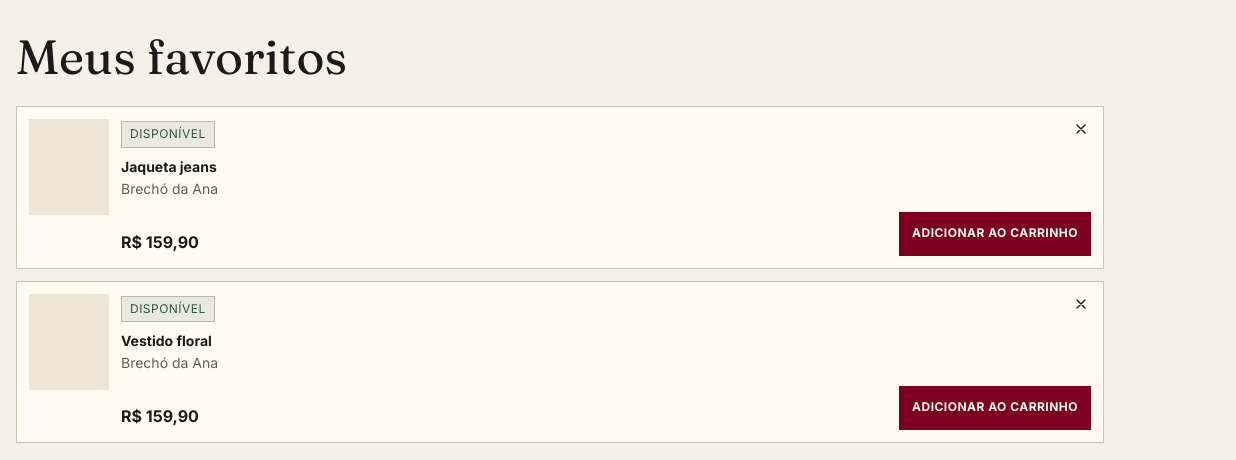
Scenario: <Favorites /> › remover tira a peça da lista pelo setFavorite
What coordinates should you click on to do the following:
click the button named "Remover Jaqueta jeans"
I would click on:
 (1081, 129)
Its box is [1059,107,1103,151].
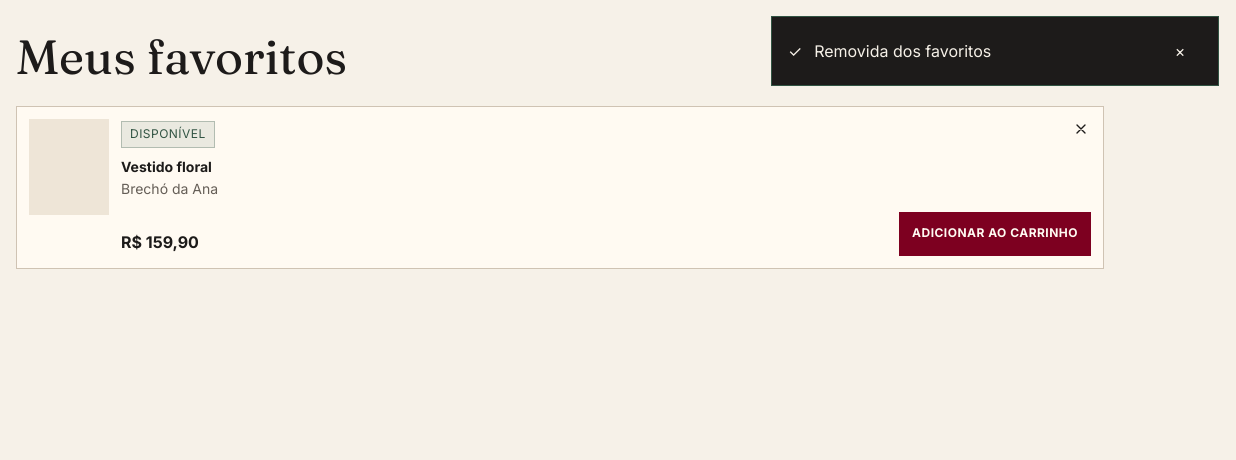
expect the button "Vestido floral" is shown: met, box [121,156,212,178]
expect the button "Jaqueta jeans" is gone: met
